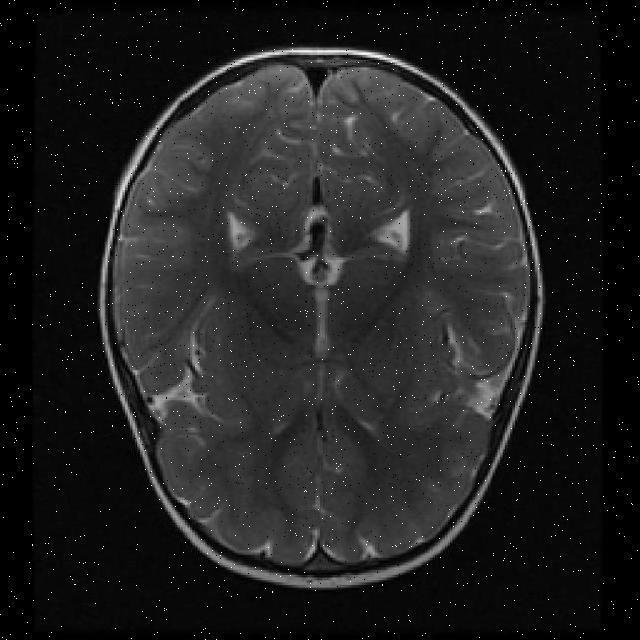No_Tumor: (100, 48, 542, 587)
